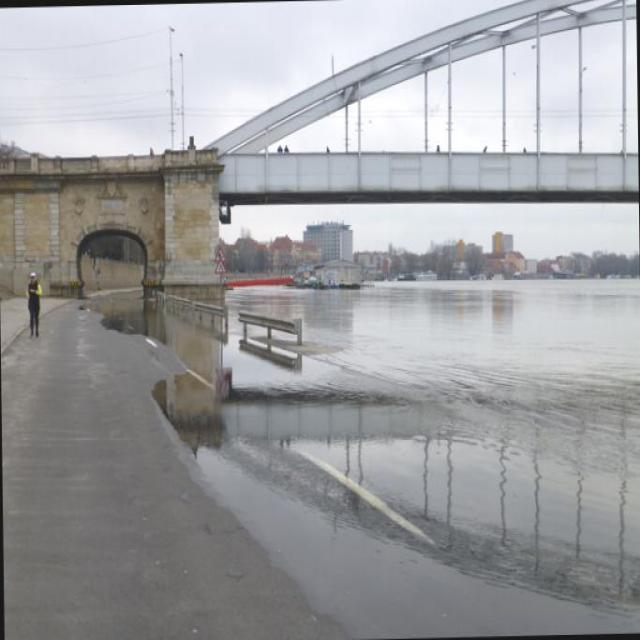flood: (78, 258, 639, 639)
